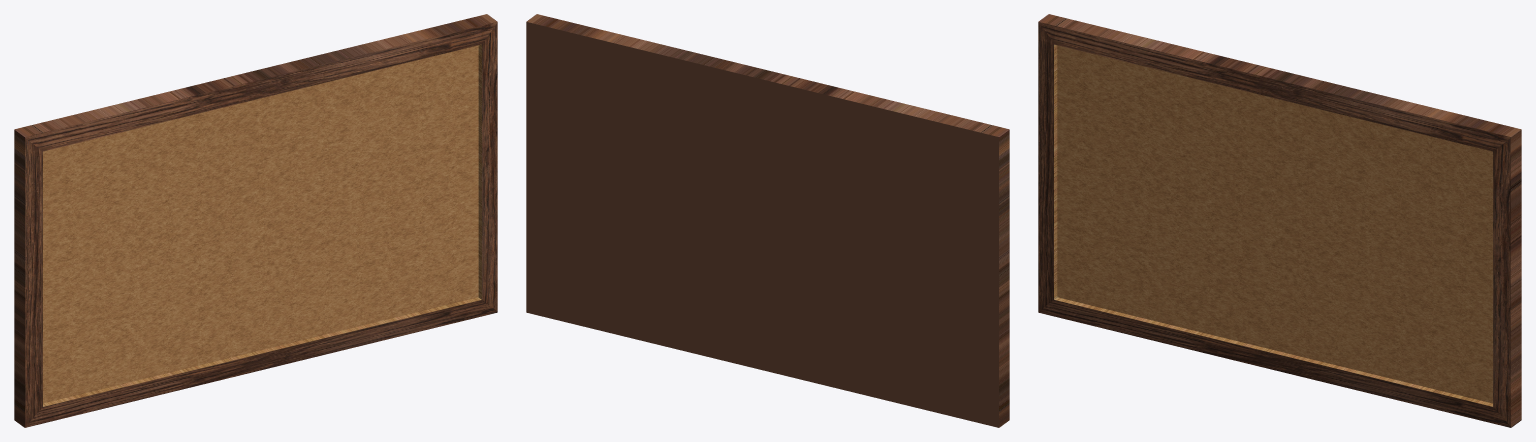
The model's file is panel_board.glb.
The picture shows the model from 3 angles, left to right: view 1: azimuth 30°, elevation 25°; view 2: azimuth 150°, elevation 25°; view 3: azimuth 330°, elevation 25°; orthographic projection.
Visible parts, largest first — view 1: panel_board; view 2: panel_board; view 3: panel_board.
Boxes of the visible parts, x1,y1,x2,y2 form: panel_board: [14, 14, 497, 427]; panel_board: [526, 14, 1009, 427]; panel_board: [1038, 14, 1521, 427].
Size of the model in its own units: 0.97 by 0.57 by 0.042.
Materials: 1 (1 with a texture image).
